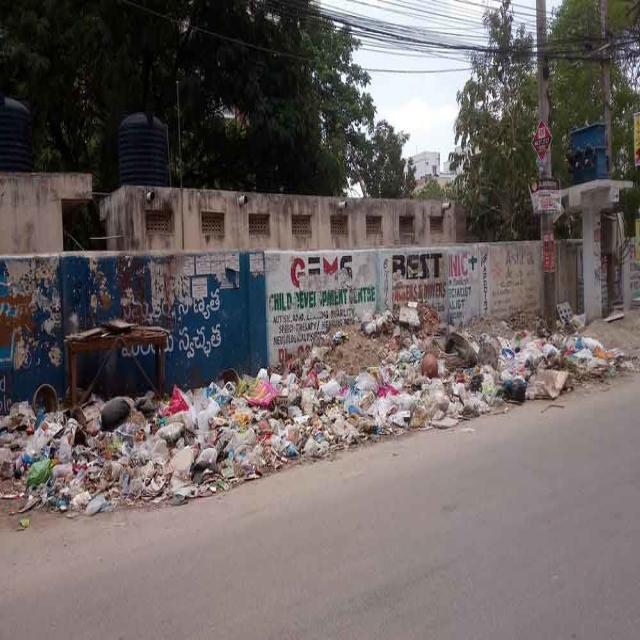garbage: (0, 310, 640, 537)
